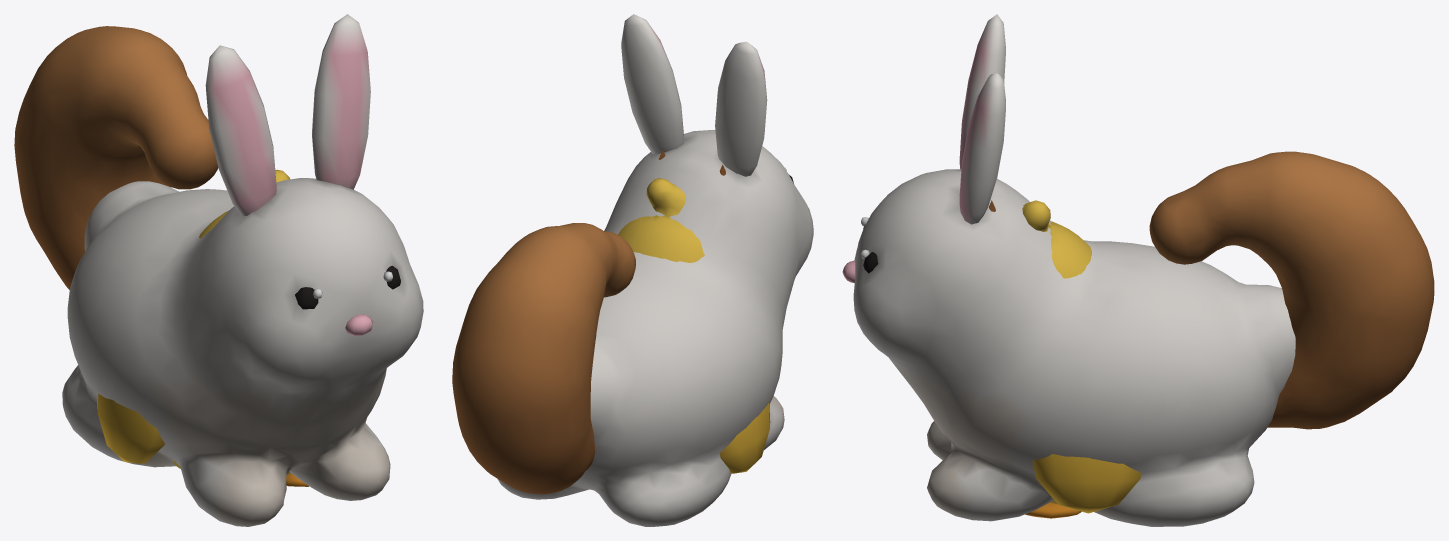
The model's file is animals.glb.
The picture shows the model from 3 angles, left to right: view 1: azimuth 30°, elevation 25°; view 2: azimuth 150°, elevation 25°; view 3: azimuth 270°, elevation 25°; orthographic projection. The views are drawn at different scales.
Parts seen in each view (by area): view 1: rabbit_body, squirrel_tail, rabbit_earL, rabbit_earR, chick_wingL, chick_body; view 2: rabbit_body, squirrel_tail, rabbit_earR, rabbit_earL, chick_body, chick_wingL; view 3: rabbit_body, squirrel_tail, rabbit_earR, chick_wingR, chick_body, rabbit_earL.
Part boxes in pixels (bbox=[...]): rabbit_body: bbox=[62, 178, 423, 526]; squirrel_tail: bbox=[14, 26, 218, 289]; rabbit_earL: bbox=[205, 45, 276, 216]; rabbit_earR: bbox=[312, 14, 370, 189]; chick_wingL: bbox=[97, 394, 164, 463]; chick_body: bbox=[173, 169, 308, 486]; rabbit_body: bbox=[497, 130, 813, 526]; squirrel_tail: bbox=[452, 223, 635, 494]; rabbit_earR: bbox=[621, 14, 683, 154]; rabbit_earL: bbox=[715, 41, 767, 176]; chick_body: bbox=[618, 178, 704, 262]; chick_wingL: bbox=[720, 403, 770, 473]; rabbit_body: bbox=[842, 169, 1295, 526]; squirrel_tail: bbox=[1149, 151, 1434, 429]; rabbit_earR: bbox=[959, 73, 1005, 224]; chick_wingR: bbox=[1032, 454, 1141, 513]; chick_body: bbox=[1022, 200, 1091, 518]; rabbit_earL: bbox=[959, 14, 1005, 169].
Bounding box in the file's own units: 0.3772 × 0.676 × 0.7969.
